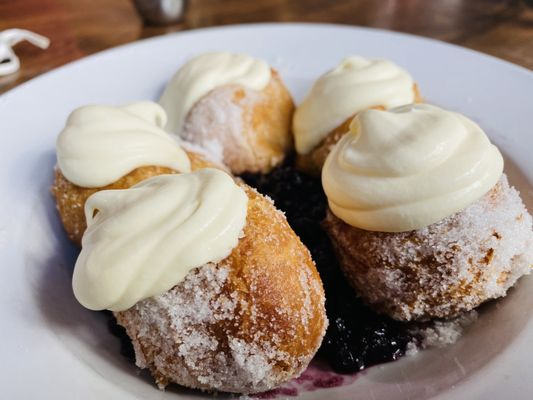sushi: (68, 137, 328, 397)
